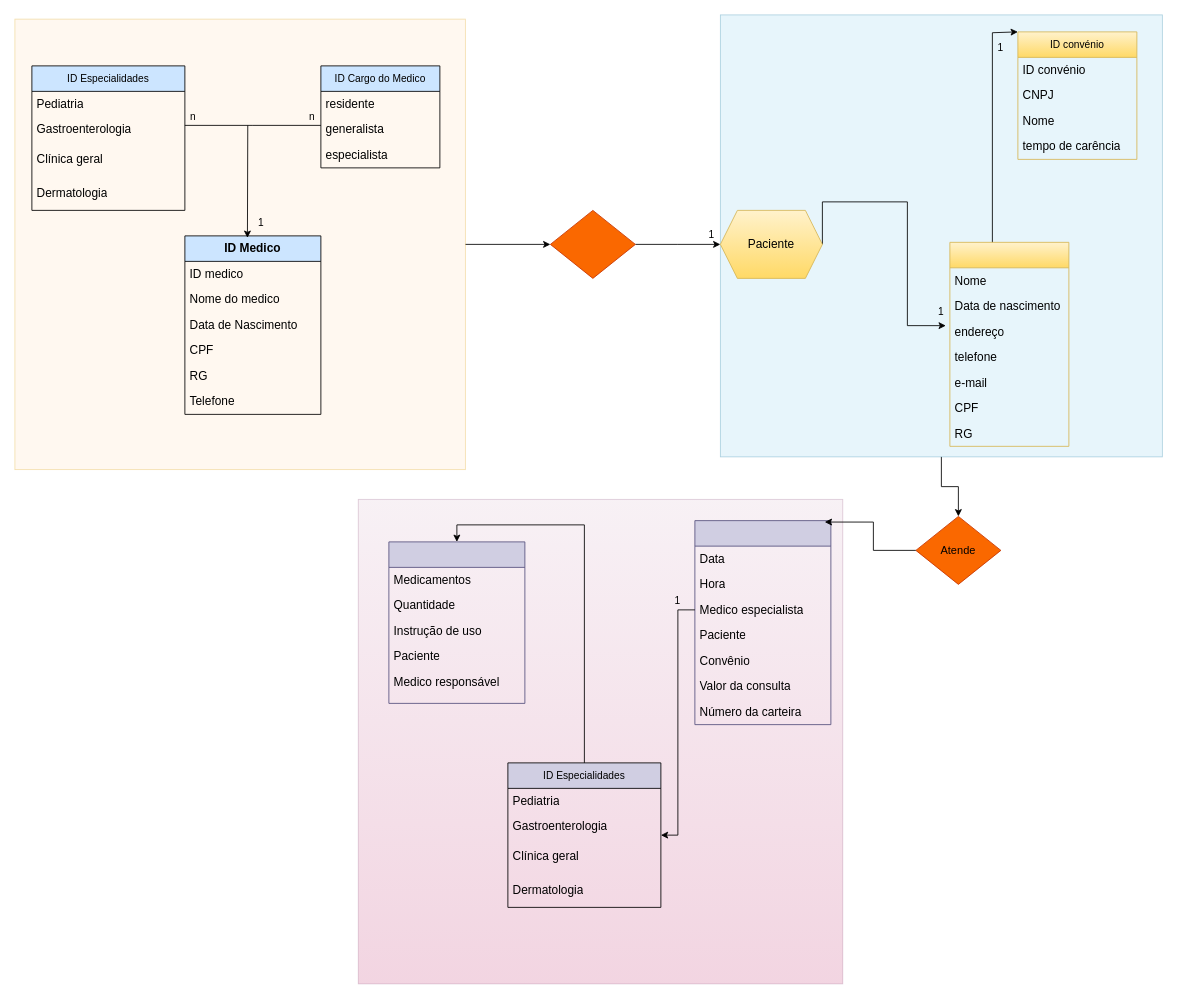
Some shapes in this 1177 by 999 pixel diagram are drawn without their labels. The shapes that lost their labels are listed below. From the top down, each one's box as (x1, y1, x2, y2) in pixels, then its label:
(550, 210, 635, 278): Realiza
(949, 241, 1069, 446): ID paciente
(388, 541, 525, 703): ID receita
(694, 520, 831, 725): ID consulta
